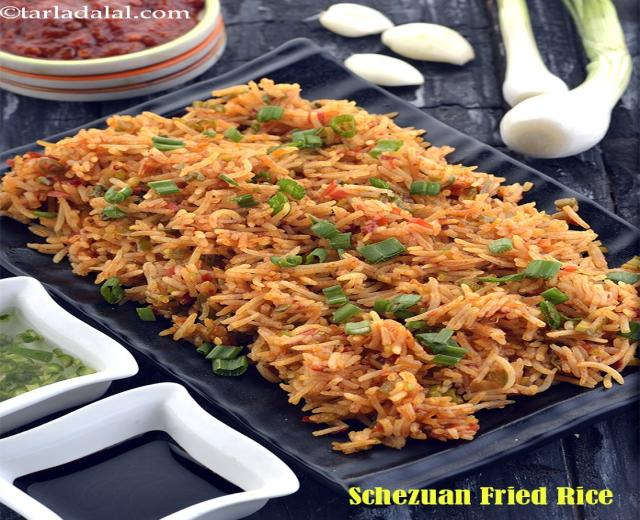dal makhni: (1, 306, 97, 406)
fried rice: (8, 81, 626, 448), (2, 34, 224, 100), (0, 0, 202, 60)
